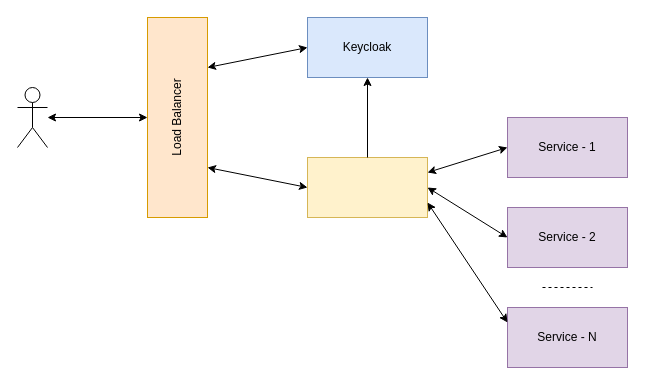
Image size: 645x385. Some labels were removed from this diagram. Here are the shapes that lost their labels. From the top down, the centre of each, then its label:
At (x=32, y=117): "Client".
At (x=367, y=187): "keycloak-security-gateway".
